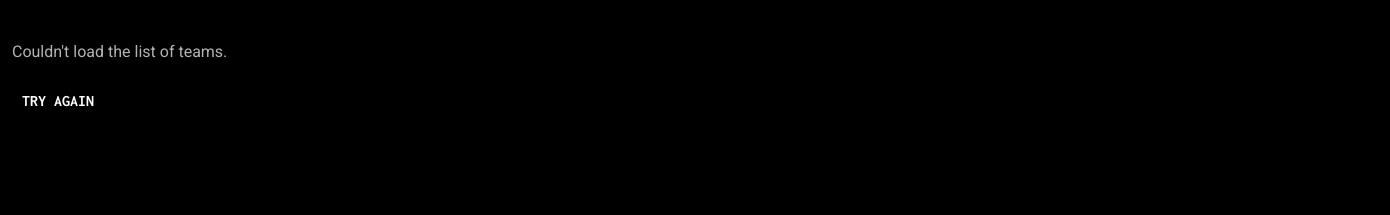
Test: Add page errors › offers a retry when the list can't be loaded
Expected: the text "Couldn't load the list of teams." is shown, x1=12 y1=42 x2=227 y2=61
Click the button "Try again". click: coordinates (58, 100)
box: x1=12 y1=77 x2=1378 y2=124
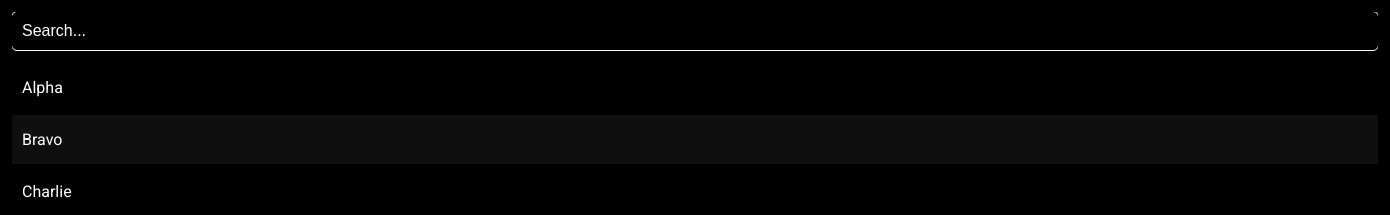
Now the link "Alpha" is shown, box x1=22 y1=78 x2=63 y2=97
